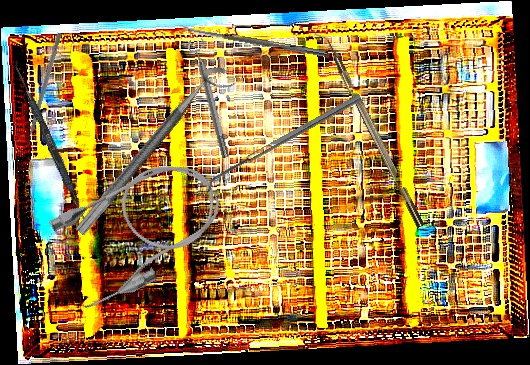Cannula: (39, 144, 238, 317)
Chopper: (311, 27, 425, 233)
Fixation Ring: (73, 60, 239, 248), (186, 37, 234, 160)
Hook Surgical: (23, 31, 62, 149)
Spatula Surgical: (202, 93, 366, 194), (8, 60, 92, 224)
Surgical Spoon: (178, 23, 329, 58)
